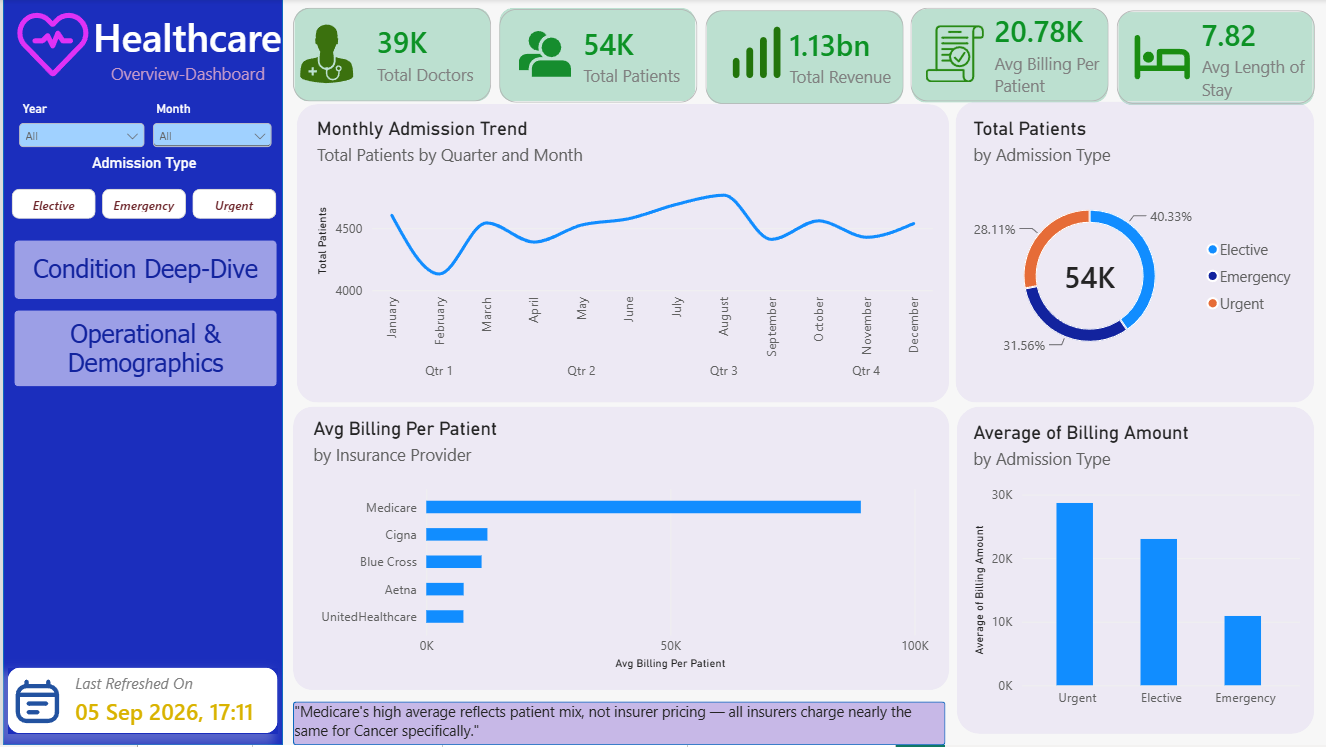

Layout of this report page (visuals, bound fields, positions):
{"tool":"powerbi","page":{"name":"Overview","canvas":[1280,720],"ordinal":0},"visuals":[{"type":"shape","box":[1076.1,12.1,189.4,90.5],"z":0},{"type":"shape","box":[877.1,9.7,189.4,90.5],"z":1000},{"type":"shape","box":[679.2,10.9,189.4,90.5],"z":2000},{"type":"shape","box":[479,8.4,189.4,90.5],"z":3000},{"type":"shape","box":[281.1,8.4,189.4,90.5],"z":4000},{"type":"shape","box":[283.5,101.3,629.8,288.3],"z":5000},{"type":"shape","box":[279.9,678,629.8,42.2],"z":6000},{"type":"shape","box":[279.9,393.3,633.4,273.9],"z":7000},{"type":"shape","box":[920.5,393.3,345,316.1],"z":8000},{"type":"shape","box":[919.3,98.9,346.2,290.8],"z":9000},{"type":"shape","box":[0,0,270.2,720.2],"z":10000},{"type":"actionButton","box":[10.9,300.4,253.4,73.6],"z":11000},{"type":"actionButton","box":[10.9,232.8,253.4,56.7],"z":12000},{"type":"cardVisual","fields":{"Data":["All Measures.Avg Length of Stay"]},"box":[1074.9,11.1,191,90],"z":13000},{"type":"cardVisual","fields":{"Data":["All Measures.Total Revenue"]},"box":[677.4,11.1,191,90],"z":14000},{"type":"cardVisual","fields":{"Data":["All Measures.Avg Billing Per Patient"]},"box":[876.2,8.7,191,90],"z":15000},{"type":"lineChart","title":"Monthly Admission Trend","fields":{"Category":["healthcare_data_clean.Date of Admission.Variation.Date Hierarchy.Quarter1","healthcare_data_clean.Date of Admission.Variation.Date Hierarchy.Month1"],"Y":["All Measures.Total Patients"]},"box":[287.1,100.1,626.1,292],"z":16000},{"type":"donutChart","fields":{"Category":["healthcare_data_clean.Admission Type"],"Y":["All Measures.Total Patients"]},"box":[920.5,100.1,347.5,273.9],"z":17000},{"type":"barChart","fields":{"Category":["healthcare_data_clean.Insurance Provider1"],"Y":["All Measures.Avg Billing Per Patient"]},"box":[283.5,389.7,626.1,273.9],"z":18000},{"type":"cardVisual","fields":{"Data":["Table.Last Refreshed On"]},"box":[4.8,645.4,260.6,63.9],"z":19000},{"type":"cardVisual","fields":{"Data":["All Measures.Total Patients"]},"box":[478.7,9.9,191,90],"z":20000},{"type":"textbox","box":[86.9,10.9,183.4,88.1],"z":21000},{"type":"cardVisual","fields":{"Data":["All Measures.Total Doctors"]},"box":[279.9,8.4,191,90],"z":22000},{"type":"advancedSlicerVisual","fields":{"Values":["healthcare_data_clean.Admission Type"]},"box":[8.4,149.6,255.8,62.7],"z":23000},{"type":"slicer","fields":{"Values":["healthcare_data_clean.Date of Admission.Variation.Date Hierarchy.Year"]},"box":[10.9,98.9,130.3,50.7],"z":24000},{"type":"slicer","fields":{"Values":["healthcare_data_clean.Date of Admission.Variation.Date Hierarchy.Month"]},"box":[139.9,98.9,124.3,50.7],"z":25000},{"type":"image","box":[0,652.7,66.4,50.7],"z":26000},{"type":"image","box":[489.8,27.7,66.4,50.7],"z":27000},{"type":"image","box":[686.5,21.7,78.4,56.7],"z":28000},{"type":"textbox","box":[281.1,678,628.6,42.2],"z":29000},{"type":"clusteredColumnChart","fields":{"Category":["healthcare_data_clean.Admission Type1"],"Y":["Avg(healthcare_data_clean.Billing Amount)"]},"box":[920.5,393.3,347.5,310.1],"z":30000},{"type":"image","box":[879.5,25.3,78.4,55.5],"z":31000},{"type":"image","box":[1067.7,24.1,102.5,63.9],"z":32000},{"type":"image","box":[279.9,24.1,71.2,57.9],"z":33000},{"type":"image","box":[4.8,3.6,86.9,78.4],"z":34000}]}

Visuals, with their boxes in screenshot pixels (x1, y1, x2, y2), scaled from the page's 1280x720 canvas onto the 1326x747 screenshot:
shape: Rect(1115, 13, 1311, 106)
shape: Rect(909, 10, 1105, 104)
shape: Rect(704, 11, 900, 105)
shape: Rect(496, 9, 692, 103)
shape: Rect(291, 9, 487, 103)
shape: Rect(294, 105, 946, 404)
shape: Rect(290, 703, 942, 746)
shape: Rect(290, 408, 946, 692)
shape: Rect(954, 408, 1311, 736)
shape: Rect(952, 103, 1311, 404)
shape: Rect(0, 0, 280, 746)
actionButton: Rect(11, 312, 274, 388)
actionButton: Rect(11, 242, 274, 300)
cardVisual - All Measures.Avg Length of Stay: Rect(1114, 12, 1311, 105)
cardVisual - All Measures.Total Revenue: Rect(702, 12, 900, 105)
cardVisual - All Measures.Avg Billing Per Patient: Rect(908, 9, 1106, 102)
"Monthly Admission Trend" lineChart: Rect(297, 104, 946, 407)
donutChart - healthcare_data_clean.Admission Type x All Measures.Total Patients: Rect(954, 104, 1314, 388)
barChart - healthcare_data_clean.Insurance Provider1 x All Measures.Avg Billing Per Patient: Rect(294, 404, 942, 688)
cardVisual - Table.Last Refreshed On: Rect(5, 670, 275, 736)
cardVisual - All Measures.Total Patients: Rect(496, 10, 694, 104)
textbox: Rect(90, 11, 280, 103)
cardVisual - All Measures.Total Doctors: Rect(290, 9, 488, 102)
advancedSlicerVisual - healthcare_data_clean.Admission Type: Rect(9, 155, 274, 220)
slicer - healthcare_data_clean.Date of Admission.Variation.Date Hierarchy.Year: Rect(11, 103, 146, 155)
slicer - healthcare_data_clean.Date of Admission.Variation.Date Hierarchy.Month: Rect(145, 103, 274, 155)
image: Rect(0, 677, 69, 730)
image: Rect(507, 29, 576, 81)
image: Rect(711, 23, 792, 81)
textbox: Rect(291, 703, 942, 746)
clusteredColumnChart - healthcare_data_clean.Admission Type1 x Avg(healthcare_data_clean.Billing Amount): Rect(954, 408, 1314, 730)
image: Rect(911, 26, 992, 84)
image: Rect(1106, 25, 1212, 91)
image: Rect(290, 25, 364, 85)
image: Rect(5, 4, 95, 85)
